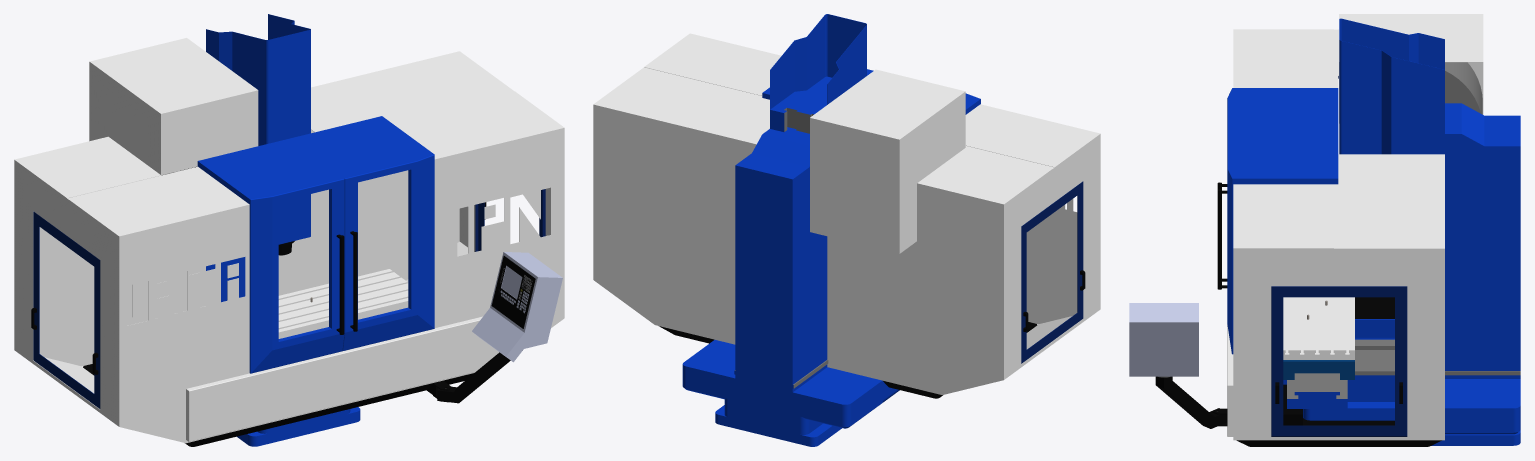
File: CNC.glb
The picture shows the model from 3 angles, left to right: view 1: azimuth 30°, elevation 25°; view 2: azimuth 150°, elevation 25°; view 3: azimuth 270°, elevation 25°; orthographic projection. The views are drawn at different scales.
Parts seen in each view (by area): view 1: Body_4, Body_1_7, 3DGeom~624, 3DGeom~658, Body_1_5, 3DGeom~202, Body_1_12, Body_1_2, Body_1_3, Body_1_10, Body_1_11, 3DGeom~1210 (+11 smaller); view 2: 3DGeom~97, Body_1_3, Body_1_2, Body_1_7, Body_1_5, 3DGeom~202, Body_1_12, Body_4, Body_1_10, Body_1_11, Body_1_9, 3DGeom~699 (+3 smaller); view 3: 3DGeom~97, Body_1_4, 3DGeom~202, Body_1_12, 3DGeom~658, Body_1_11, 3DGeom~699_2, Body_1_10, 3DGeom~1210, 3DGeom~624, 3DGeom~268, Body_1_7 (+10 smaller).
Boxes of the visible parts, <box> form: Body_4: <box>119,128,564,443</box>; Body_1_7: <box>89,38,258,175</box>; 3DGeom~624: <box>197,138,344,373</box>; 3DGeom~658: <box>290,116,434,351</box>; Body_1_5: <box>14,160,118,426</box>; 3DGeom~202: <box>206,14,310,244</box>; Body_1_12: <box>311,51,511,132</box>; Body_1_2: <box>278,51,459,295</box>; Body_1_3: <box>39,227,205,366</box>; Body_1_10: <box>69,168,249,236</box>; Body_1_11: <box>390,91,564,159</box>; 3DGeom~1210: <box>472,252,562,362</box>; 3DGeom~97: <box>682,127,899,446</box>; Body_1_3: <box>827,183,1003,395</box>; Body_1_2: <box>593,104,756,344</box>; Body_1_7: <box>810,69,965,253</box>; Body_1_5: <box>1004,134,1100,379</box>; 3DGeom~202: <box>770,14,866,131</box>; Body_1_12: <box>594,69,769,144</box>; Body_4: <box>1026,199,1077,324</box>; Body_1_10: <box>965,104,1100,167</box>; Body_1_11: <box>644,33,781,95</box>; Body_1_9: <box>917,147,1052,204</box>; 3DGeom~699: <box>1021,181,1083,363</box>; 3DGeom~97: <box>1283,103,1520,445</box>; Body_1_4: <box>1233,248,1444,440</box>; 3DGeom~202: <box>1339,18,1444,154</box>; Body_1_12: <box>1338,154,1444,248</box>; 3DGeom~658: <box>1227,133,1338,354</box>; Body_1_11: <box>1233,184,1333,248</box>; 3DGeom~699_2: <box>1271,286,1407,436</box>; Body_1_10: <box>1233,29,1333,87</box>; 3DGeom~1210: <box>1129,303,1198,376</box>; 3DGeom~624: <box>1227,88,1338,133</box>; 3DGeom~268: <box>1283,297,1354,359</box>; Body_1_7: <box>1339,14,1483,123</box>.
Size of the model in its own units: 3.49 by 2.84 by 2.59.
